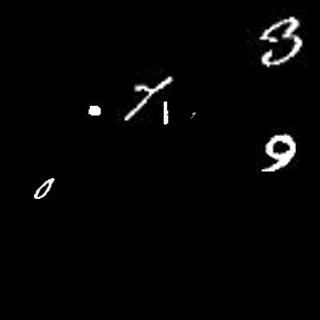dot: (85, 102, 102, 120)
nine: (261, 131, 293, 175), (188, 109, 198, 119)
one: (162, 98, 170, 124)
seven: (124, 75, 174, 121)
three: (257, 15, 302, 70)
zero: (31, 173, 59, 201)
